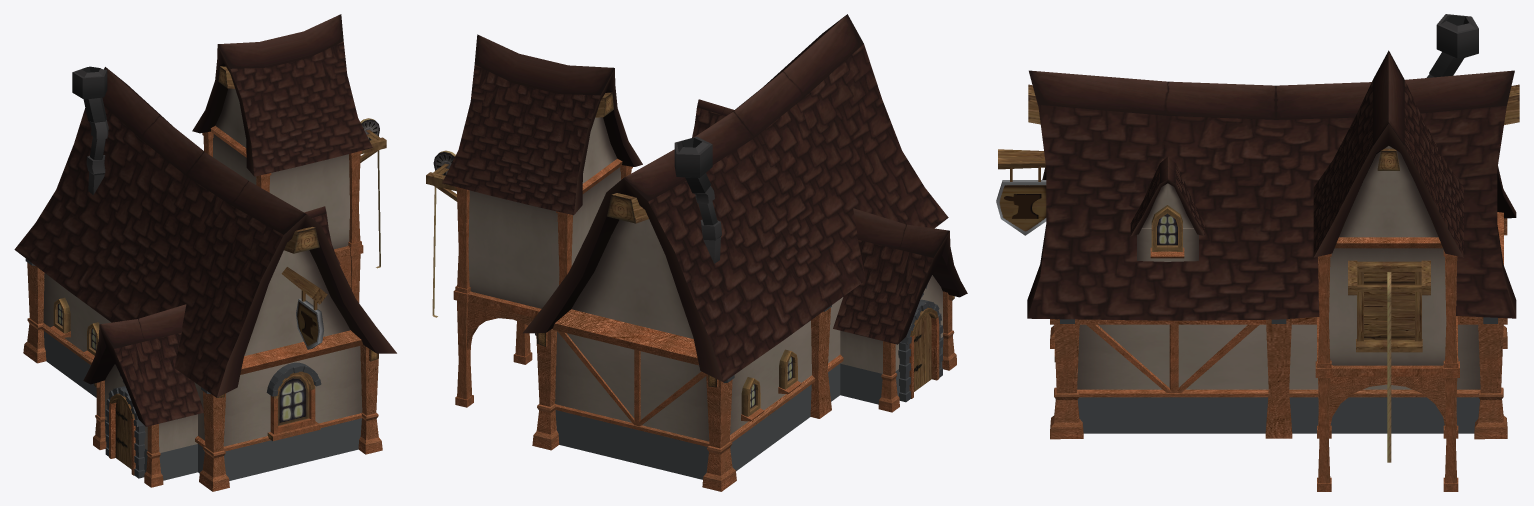
Rendered from fanasty_mod_building04.fbx.
The picture shows the model from 3 angles, left to right: view 1: azimuth 30°, elevation 25°; view 2: azimuth 150°, elevation 25°; view 3: azimuth 270°, elevation 25°; orthographic projection. The views are drawn at different scales.
Visible parts, largest first — view 1: polySurface8687; view 2: polySurface8687; view 3: polySurface8687.
Part boxes in pixels (box(x1,y1,x2,y2)): polySurface8687: box(14, 14, 396, 491); polySurface8687: box(426, 14, 967, 491); polySurface8687: box(996, 14, 1519, 491).
Size of the model in its own units: 13.3 by 10.57 by 13.38.
